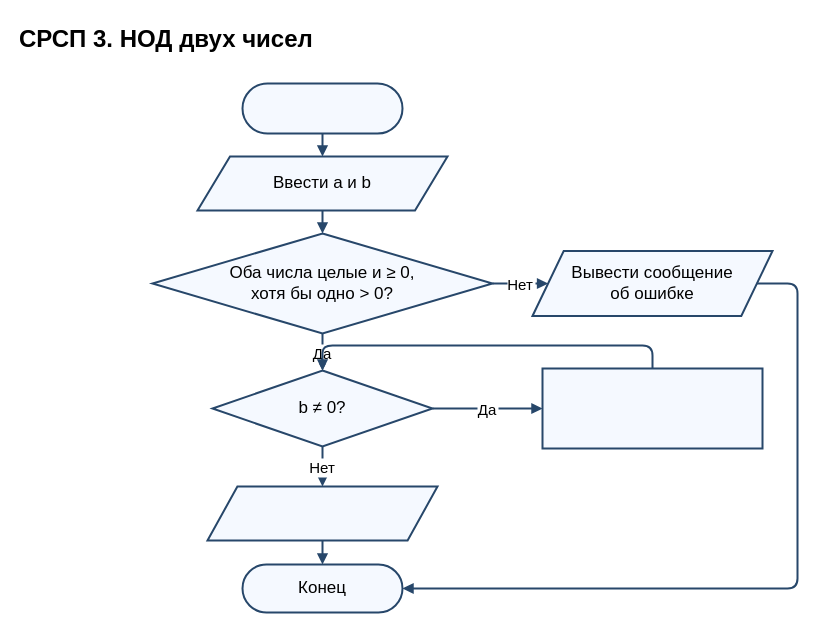
This 823x630 diagram has some shape labels left out. Here are the shapes that lost their labels. From the top down, the centre of each, then its label:
At (x=322, y=108): "Начало".
At (x=652, y=408): "r = a mod b a = b b = r".
At (x=322, y=513): "Вывести a".
